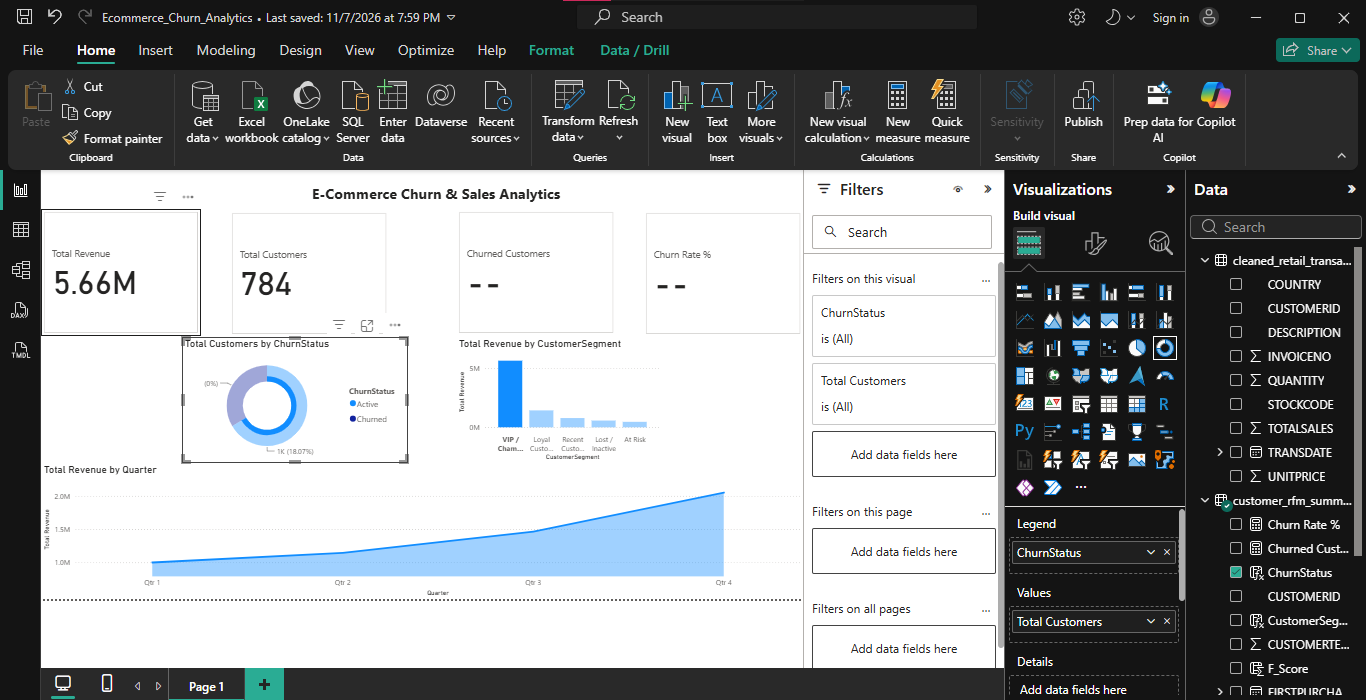

The page's visual inventory and layout, read from the dashboard file:
{"tool":"powerbi","page":{"name":"Page 1","canvas":[1280,720],"ordinal":0},"visuals":[{"type":"cardVisual","fields":{"Data":["customer_rfm_summary.Total Revenue"]},"box":[0,65.5,268.8,213.3],"z":0},{"type":"cardVisual","fields":{"Data":["customer_rfm_summary.Total Customers"]},"box":[315.8,67.2,269,213],"z":1000},{"type":"cardVisual","fields":{"Data":["customer_rfm_summary.Churned Customers"]},"box":[697.1,65.5,269,213],"z":2000},{"type":"cardVisual","fields":{"Data":["customer_rfm_summary.Churn Rate %"]},"box":[1011.2,67.2,269,213],"z":3000},{"type":"donutChart","fields":{"Category":["customer_rfm_summary.ChurnStatus"],"Y":["customer_rfm_summary.Total Customers"]},"box":[236.9,280.5,379.6,211.7],"z":3001},{"type":"clusteredColumnChart","fields":{"Category":["customer_rfm_summary.CustomerSegment"],"Y":["customer_rfm_summary.Total Revenue"]},"box":[697.1,280.5,347.7,211.7],"z":3002},{"type":"areaChart","fields":{"Category":["cleaned_retail_transactions.TRANSDATE.Variation.Date Hierarchy.Year","cleaned_retail_transactions.TRANSDATE.Variation.Date Hierarchy.Quarter","cleaned_retail_transactions.TRANSDATE.Variation.Date Hierarchy.Month","cleaned_retail_transactions.TRANSDATE.Variation.Date Hierarchy.Day"],"Y":["customer_rfm_summary.Total Revenue"]},"box":[0,492.2,1280,228.5],"z":3003},{"type":"textbox","box":[450.2,18.5,811.3,48.7],"z":3004}]}

Visuals, with their boxes on the page's 1280x720 design canvas (x1, y1, x2, y2). These are canvas units, not pixel positions in the 1366x700 screenshot, which may show the page scaled, cropped or inside an application window:
cardVisual - customer_rfm_summary.Total Revenue: box(0, 66, 269, 279)
cardVisual - customer_rfm_summary.Total Customers: box(316, 67, 585, 280)
cardVisual - customer_rfm_summary.Churned Customers: box(697, 66, 966, 278)
cardVisual - customer_rfm_summary.Churn Rate %: box(1011, 67, 1280, 280)
donutChart - customer_rfm_summary.ChurnStatus x customer_rfm_summary.Total Customers: box(237, 280, 616, 492)
clusteredColumnChart - customer_rfm_summary.CustomerSegment x customer_rfm_summary.Total Revenue: box(697, 280, 1045, 492)
areaChart - cleaned_retail_transactions.TRANSDATE.Variation.Date Hierarchy.Year x cleaned_retail_transactions.TRANSDATE.Variation.Date Hierarchy.Quarter: box(0, 492, 1280, 721)
textbox: box(450, 18, 1262, 67)
